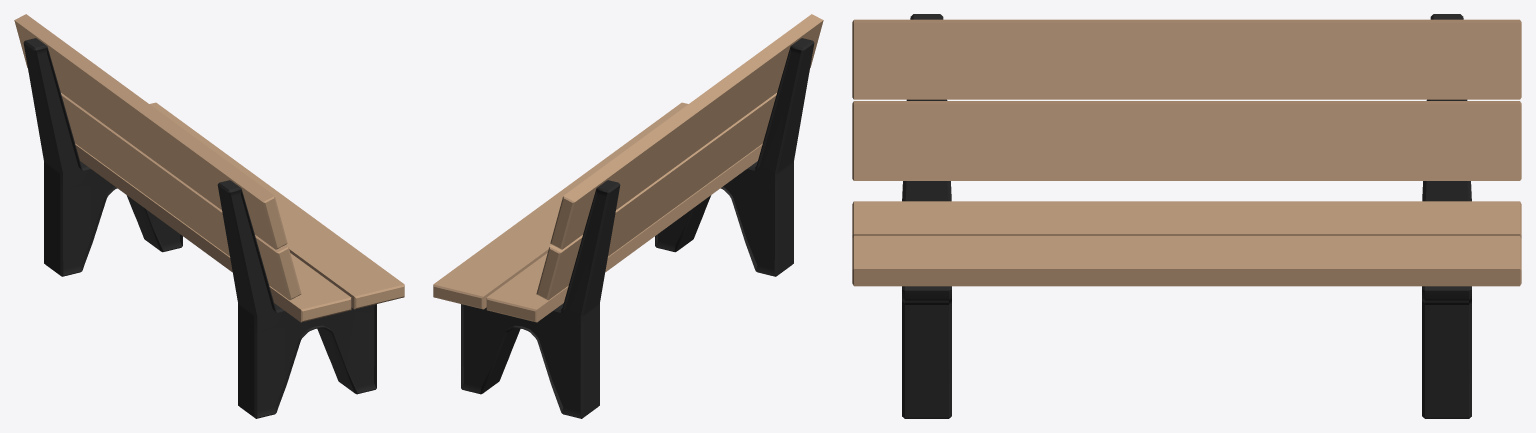
The model's file is Bench.fbx.
3 renders of one model, left to right at view 1: azimuth 30°, elevation 25°; view 2: azimuth 150°, elevation 25°; view 3: azimuth 270°, elevation 25°, orthographic. The views are drawn at different scales.
Visible parts, largest first — view 1: ParkBench; view 2: ParkBench; view 3: ParkBench.
Boxes of the visible parts, x1,y1,x2,y2 form: ParkBench: (14, 14, 404, 418); ParkBench: (433, 14, 823, 418); ParkBench: (852, 14, 1521, 418).
Bounding box in the file's own units: 2.33 × 3.36 × 6.43.
